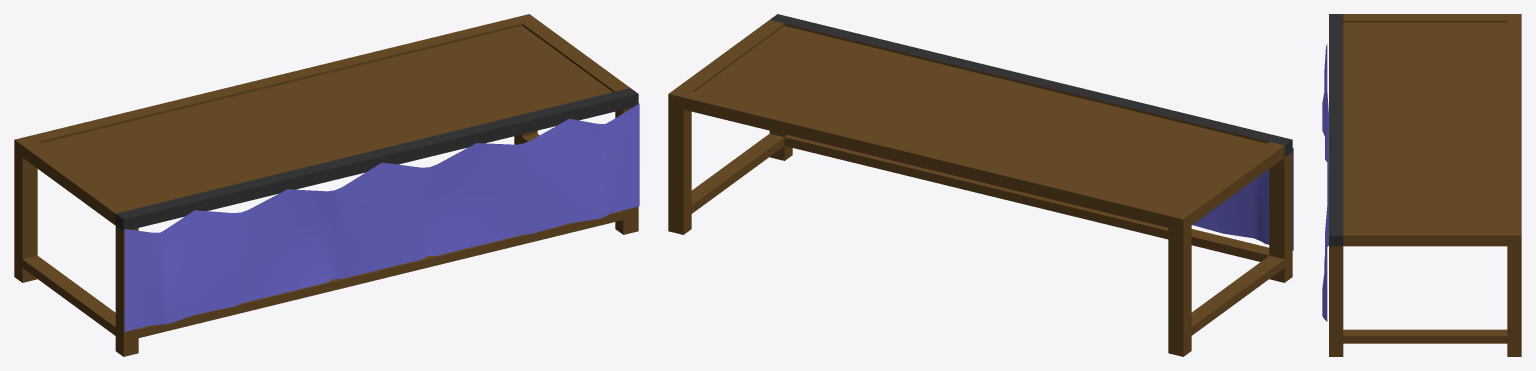
Rendered from mesa1.fbx.
The picture shows the model from 3 angles, left to right: view 1: azimuth 30°, elevation 25°; view 2: azimuth 150°, elevation 25°; view 3: azimuth 270°, elevation 25°; orthographic projection. The views are drawn at different scales.
Visible parts, largest first — view 1: mesa1|mesa1_L_scene.blend|Dupli|; view 2: mesa1|mesa1_L_scene.blend|Dupli|; view 3: mesa1|mesa1_L_scene.blend|Dupli|.
Part boxes in pixels (box(x1,y1,x2,y2)): mesa1|mesa1_L_scene.blend|Dupli|: box(14, 14, 639, 356); mesa1|mesa1_L_scene.blend|Dupli|: box(668, 14, 1293, 356); mesa1|mesa1_L_scene.blend|Dupli|: box(1322, 14, 1521, 356).
Size of the model in its own units: 545 by 139 by 207.
